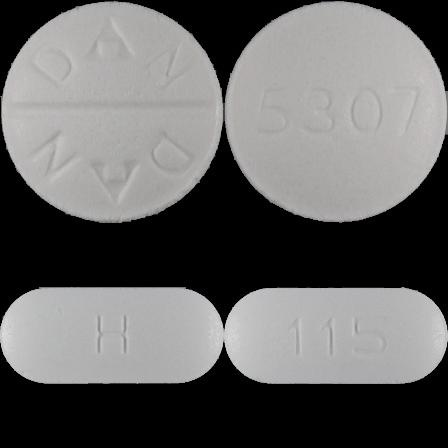10544-618: (0, 0, 224, 224)
